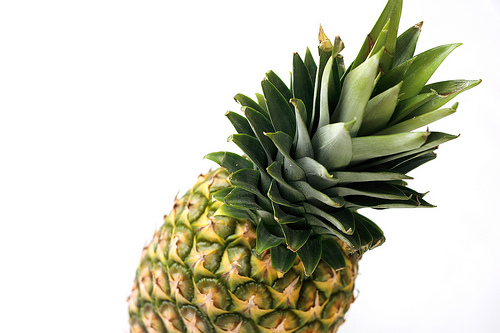pineapple: (125, 0, 485, 331)
